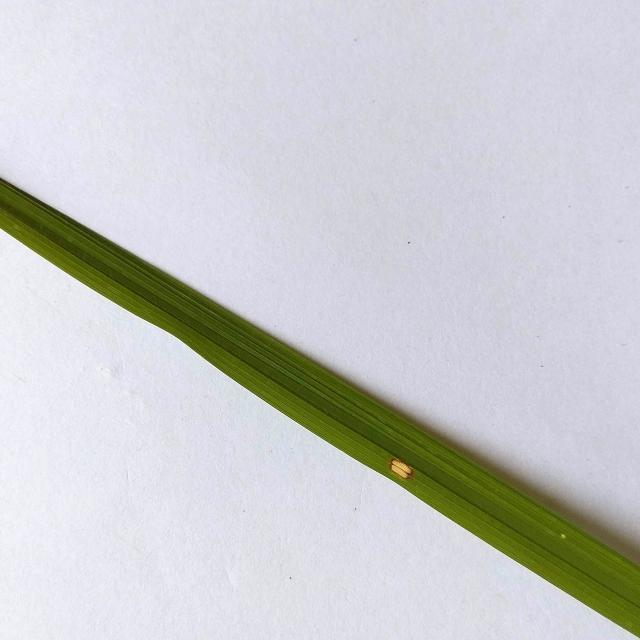Blast: (382, 458, 414, 478)
